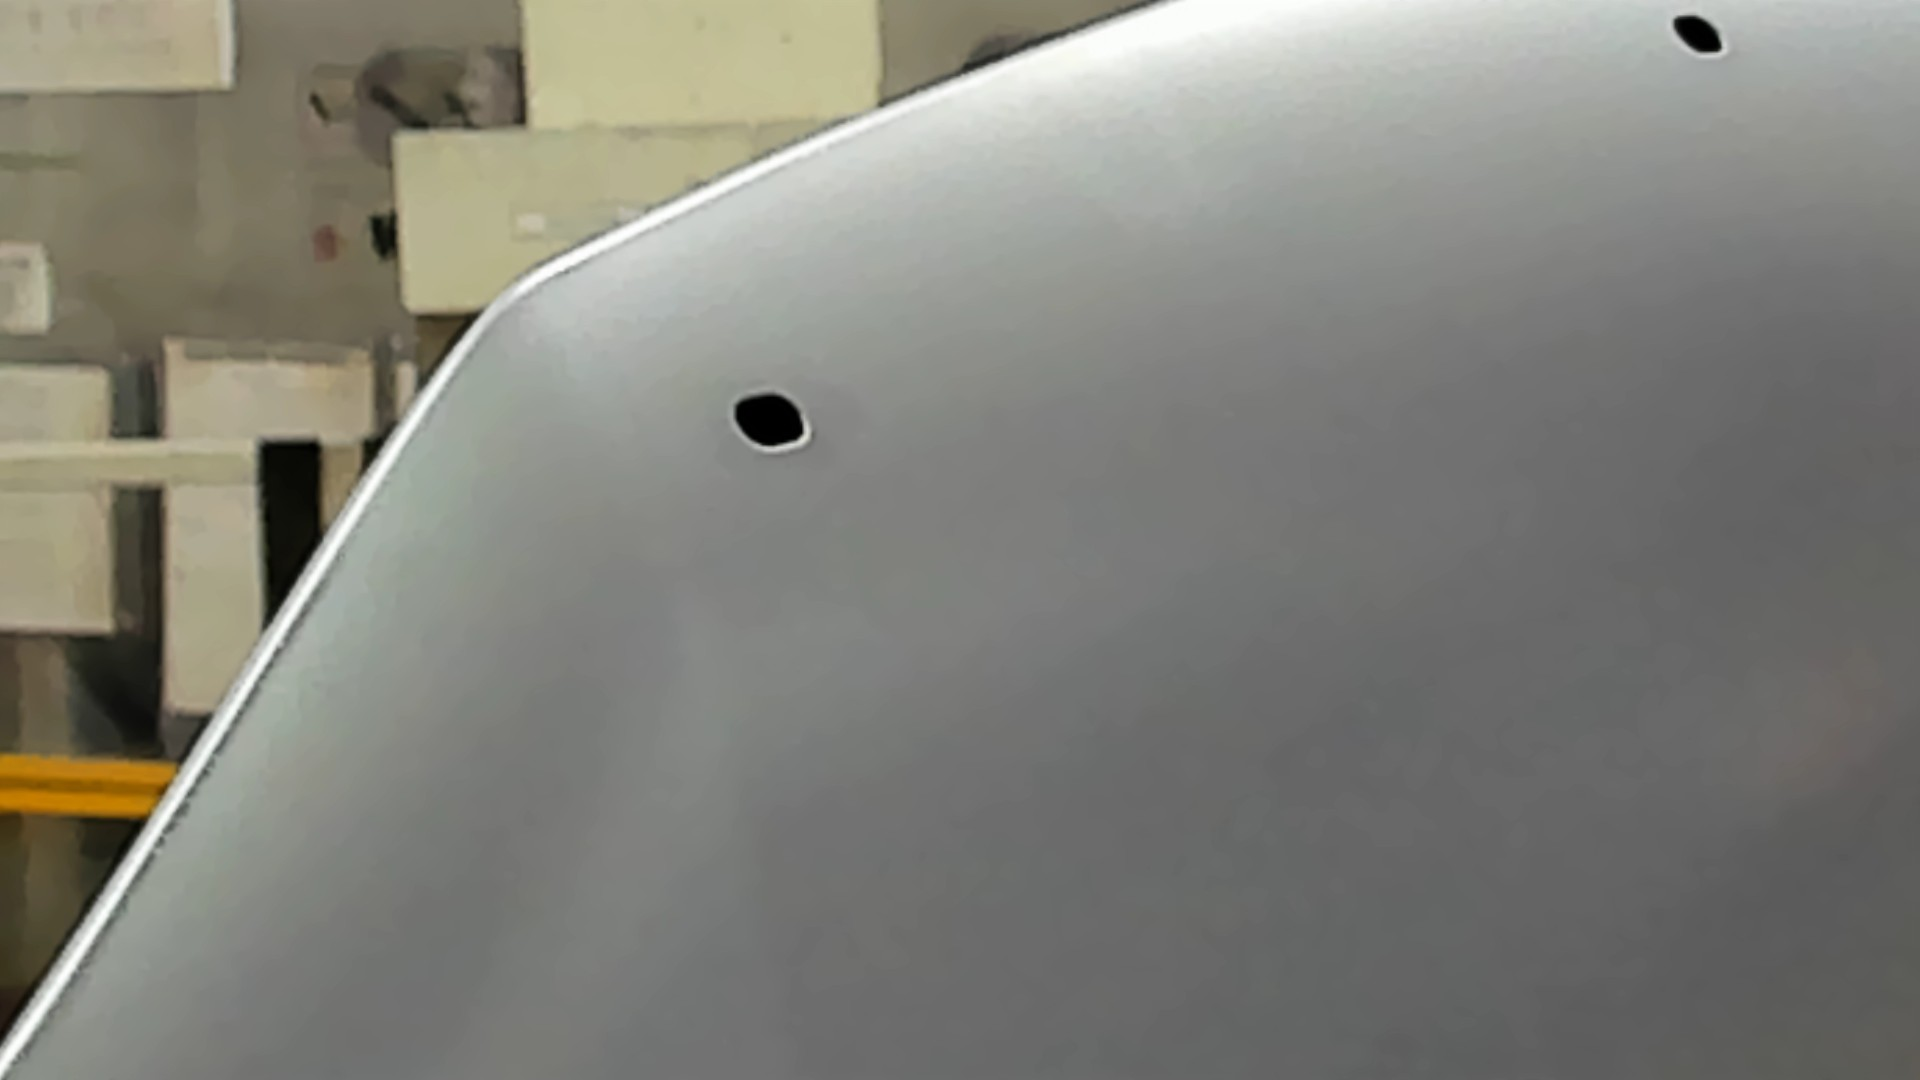amorfo: (725, 386, 815, 458), (1665, 5, 1737, 67)
